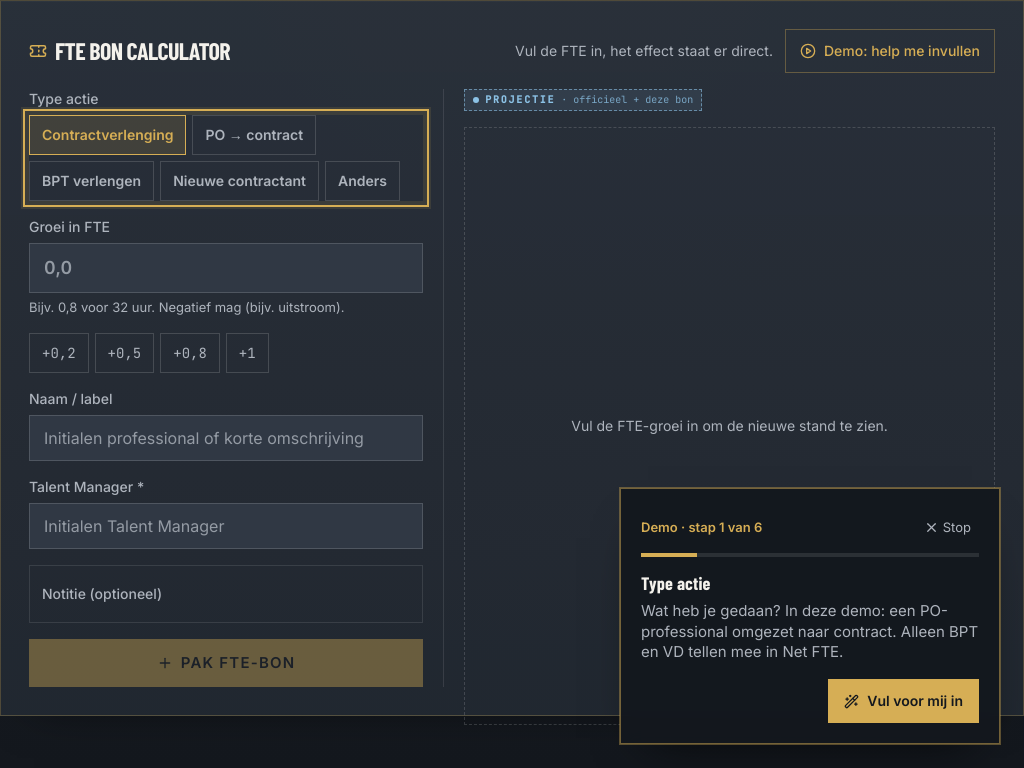
Scenario: FTE Bon demo › walks through the bon, shows the live effect and the next target, and never saves
Earlier steps of the test are not shown.
expect the text "Demo · stap 1 van 6" is shown: met, box [641,517,762,538]
Click the button "Vul voor mij in": (904, 701) [828,679,979,723]
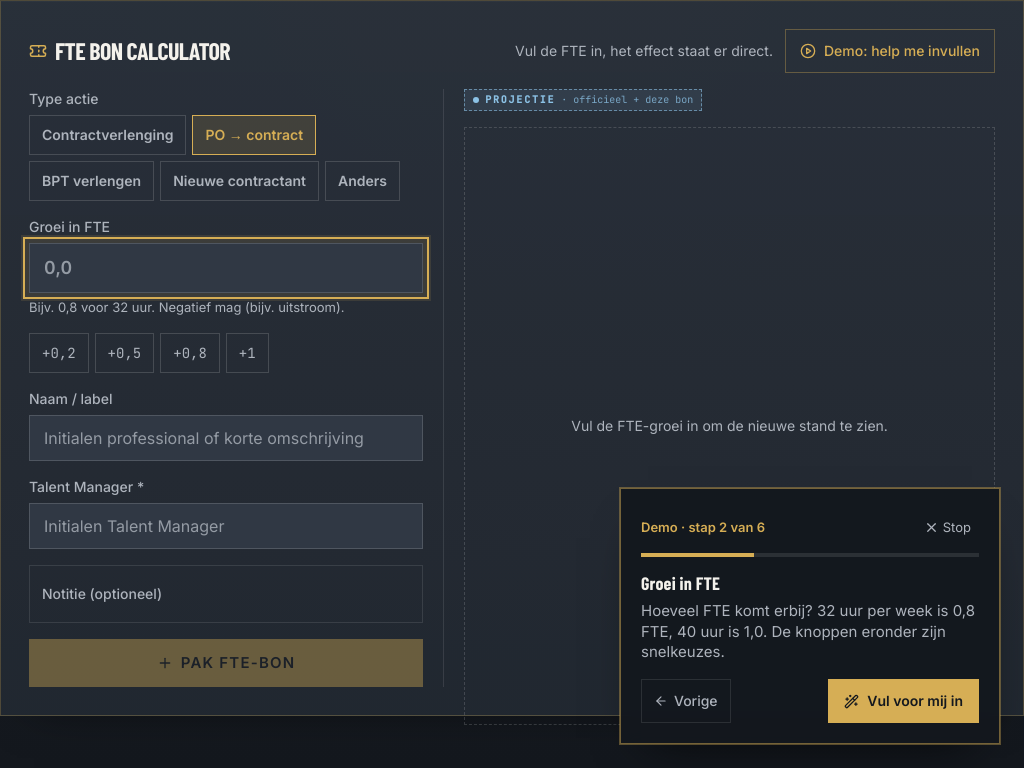
expect the radio button labelled "PO → contract" is checked: met, box [192,115,316,155]
Click the button "Vul voor mij in": (904, 701) [828,679,979,723]
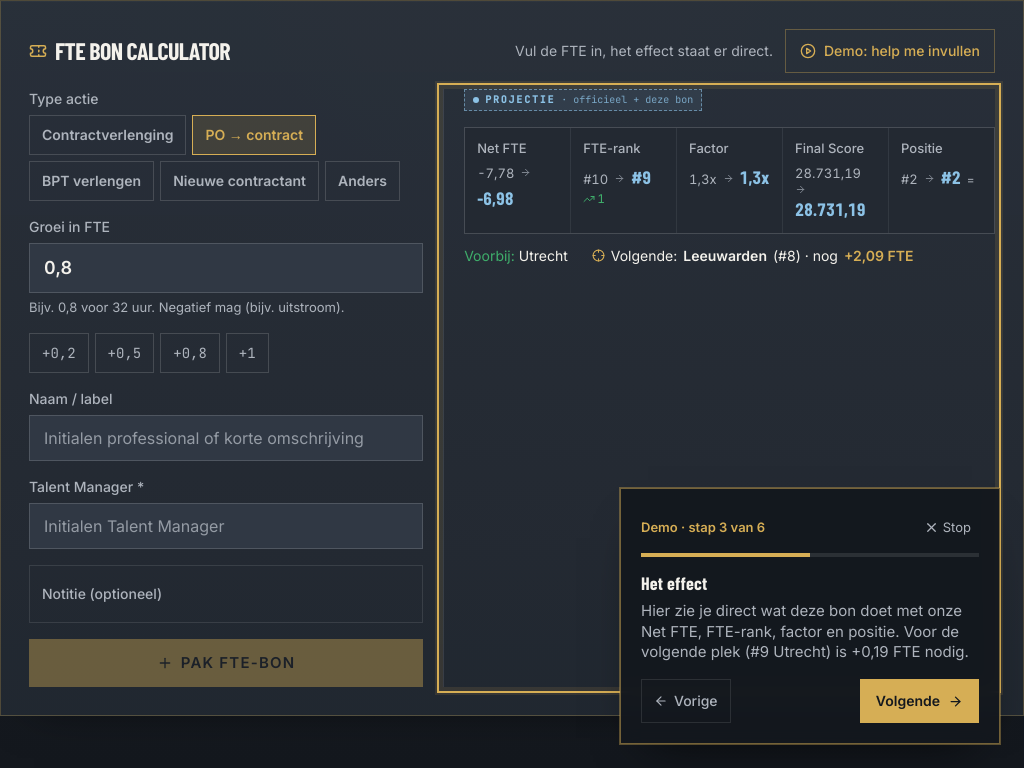
expect the field labelled "Groei in FTE" holds "0,8": met, box [29,243,423,293]
expect the heading "Het effect" is shown: met, box [641,572,707,594]
expect the text "#9 Utrecht) is +0,19 FTE nodig" is shown: met, box [641,601,969,661]
Click the button "Volgende": (919, 701) [860,679,979,723]
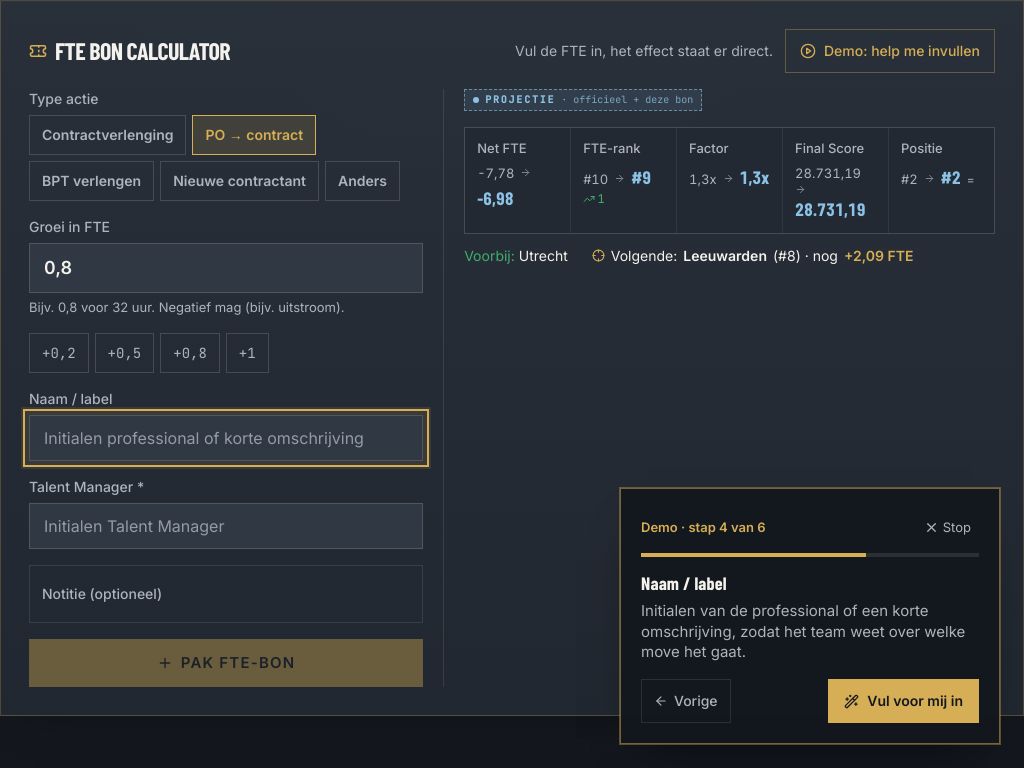
Click the button "Vul voor mij in": (904, 701) [828,679,979,723]
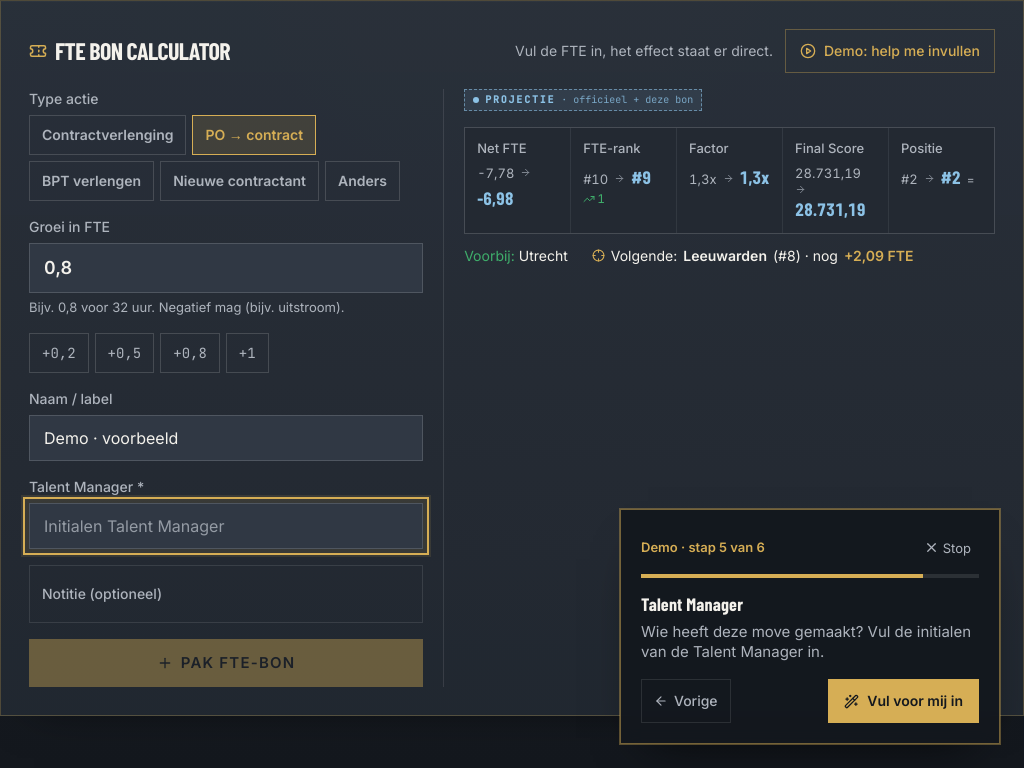
expect the field labelled "Naam / label" holds "Demo · voorbeeld": met, box [29,415,423,461]
Click the button "Vul voor mij in": (904, 701) [828,679,979,723]
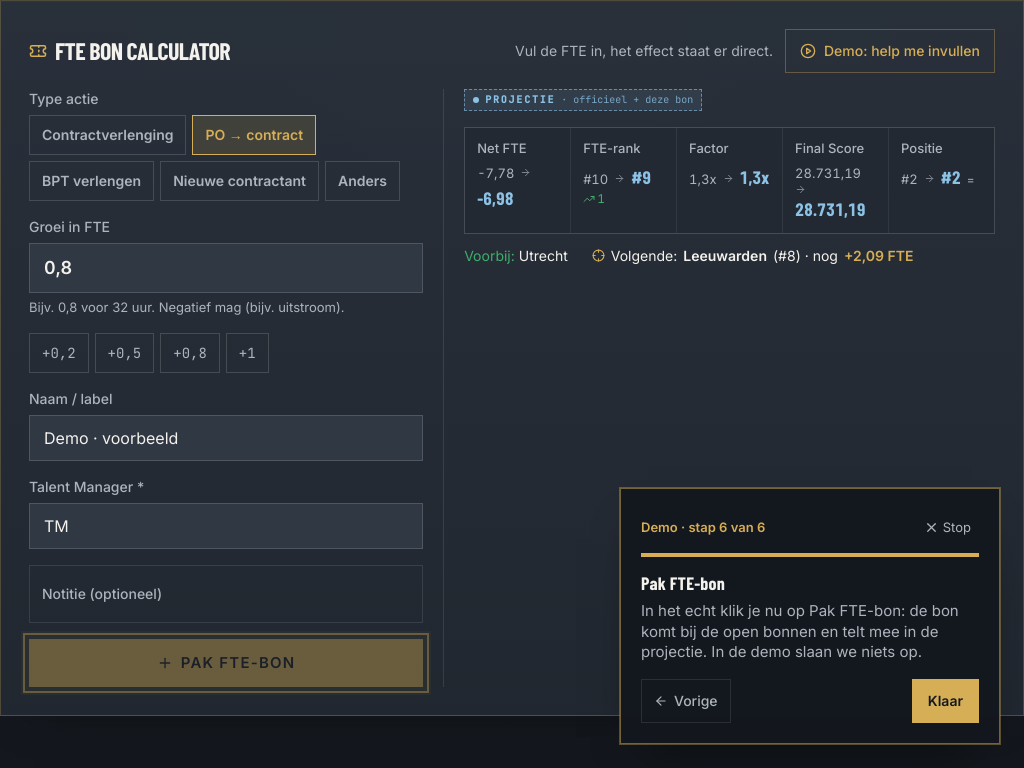
expect the button "Pak FTE-bon" is disabled: met, box [29,639,423,687]
expect the field labelled "Talent Manager *" holds "TM": met, box [29,503,423,549]
expect the heading "Pak FTE-bon" is shown: met, box [641,572,725,594]
Submit the form named "pak fte-bon"
Click the button "Klaar": (945, 701) [912,679,979,723]
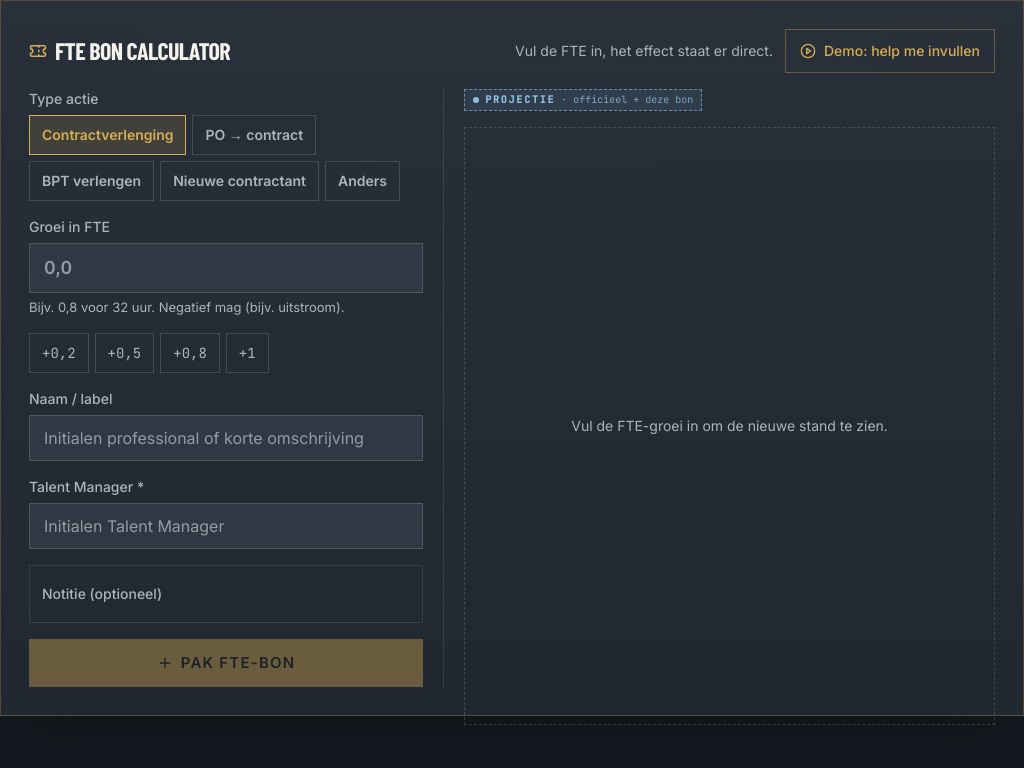
expect the dialog with test id "demo-coach" is gone: met
expect the field labelled "Groei in FTE" is empty: met, box [29,243,423,293]
expect the field labelled "Naam / label" is empty: met, box [29,415,423,461]
